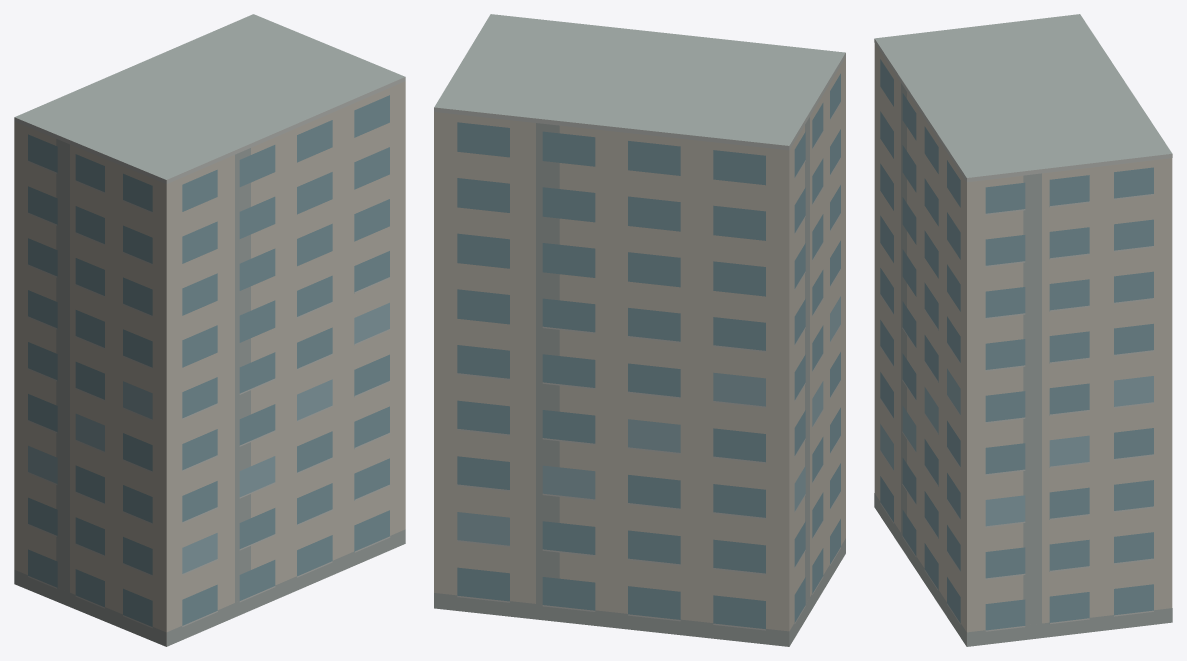
The model's file is residential-fd2c9cdd-7645-4d5e-90ae-12f9432ebdc1.glb.
The picture shows the model from 3 angles, left to right: view 1: azimuth 30°, elevation 25°; view 2: azimuth 150°, elevation 25°; view 3: azimuth 270°, elevation 25°; orthographic projection. The views are drawn at different scales.
Visible parts, largest first — view 1: residential-fd2c9cdd-7645-4d5e-90ae-12f9432ebdc1.tmp; view 2: residential-fd2c9cdd-7645-4d5e-90ae-12f9432ebdc1.tmp; view 3: residential-fd2c9cdd-7645-4d5e-90ae-12f9432ebdc1.tmp.
Part boxes in pixels (<box>): residential-fd2c9cdd-7645-4d5e-90ae-12f9432ebdc1.tmp: <box>14,14,405,646</box>; residential-fd2c9cdd-7645-4d5e-90ae-12f9432ebdc1.tmp: <box>434,14,845,646</box>; residential-fd2c9cdd-7645-4d5e-90ae-12f9432ebdc1.tmp: <box>874,14,1172,646</box>.
Bounding box in the file's own units: 20.27 × 27 × 15.56.
